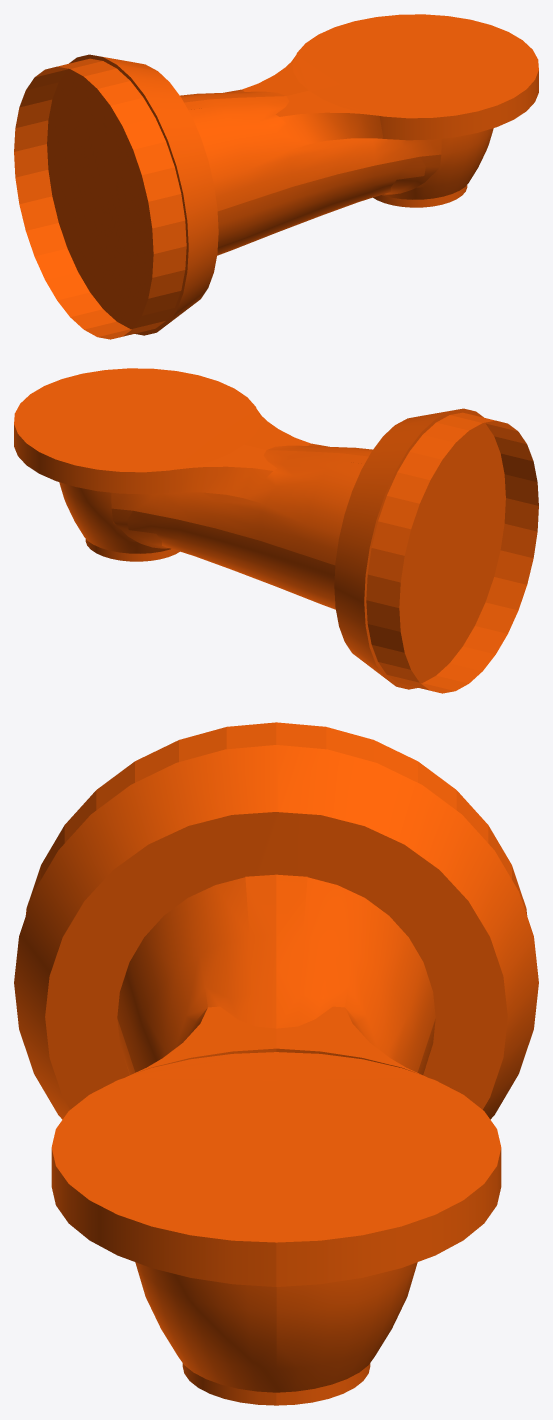
The picture shows the model from 3 angles, top to bottom: view 1: azimuth 30°, elevation 25°; view 2: azimuth 150°, elevation 25°; view 3: azimuth 270°, elevation 25°; orthographic projection. The views are drawn at different scales.
Visible parts, largest first — view 1: KR300_R2500_ultra_4; view 2: KR300_R2500_ultra_4; view 3: KR300_R2500_ultra_4.
Part boxes in pixels (x1,y1,x2,y2): KR300_R2500_ultra_4: (14, 14, 538, 339); KR300_R2500_ultra_4: (14, 368, 538, 693); KR300_R2500_ultra_4: (14, 722, 538, 1405).
Size of the model in its own units: 0.3666 by 0.2081 by 0.2081.
